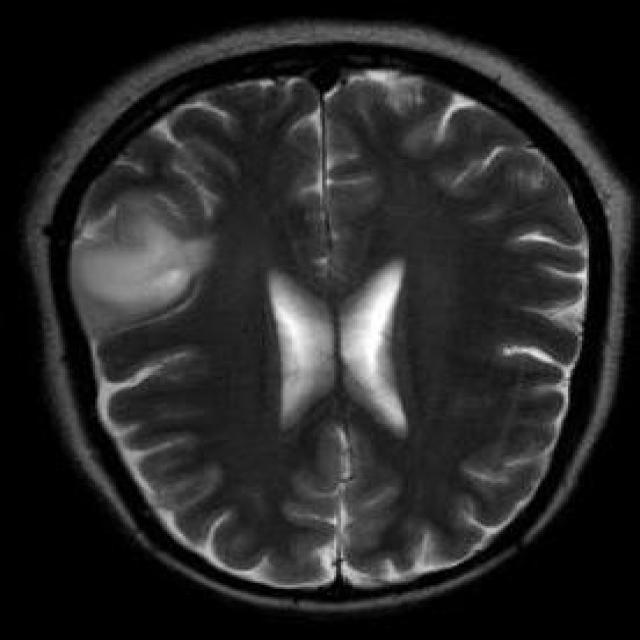notumor: (26, 22, 631, 611)
